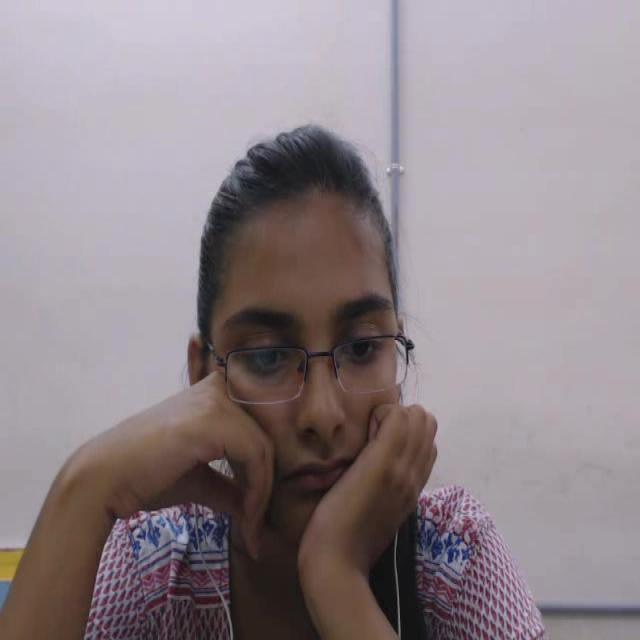Bored: (142, 110, 446, 578)
